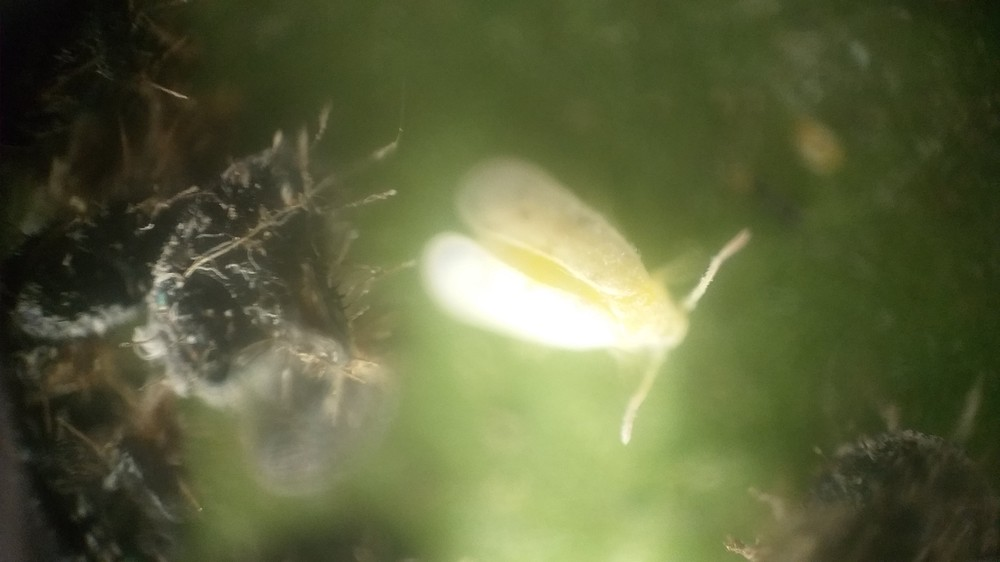Mosca Blanca: (409, 144, 773, 458)
